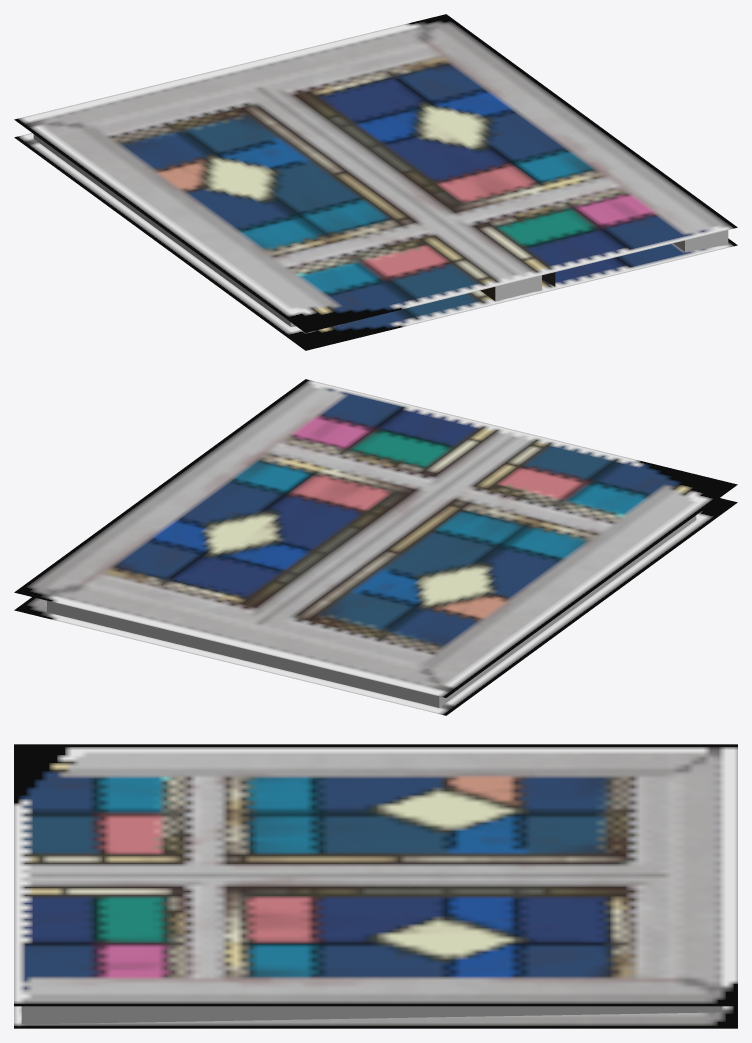
Rendered from pz_native_location_community_church_small_01_125_frame.obj.
3 views of the same model, one above another, from view 1: azimuth 30°, elevation 25°; view 2: azimuth 150°, elevation 25°; view 3: azimuth 270°, elevation 25° (orthographic). The views are drawn at different scales.
Parts seen in each view (by area): view 1: pz_native_location_community_church_small_01_125_frame; view 2: pz_native_location_community_church_small_01_125_frame; view 3: pz_native_location_community_church_small_01_125_frame.
Boxes of the visible parts, x1,y1,x2,y2 form: pz_native_location_community_church_small_01_125_frame: (14,14,737,350); pz_native_location_community_church_small_01_125_frame: (14,379,737,715); pz_native_location_community_church_small_01_125_frame: (14,744,737,1028).
Size of the model in its own units: 1.02 by 0.04 by 1.19.
Materials: 1 (1 with a texture image).
